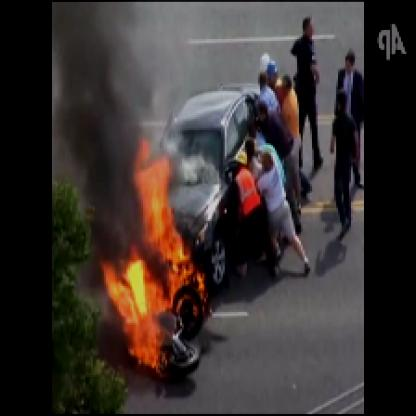Fire: (95, 132, 217, 381)
Smoke: (61, 2, 136, 239)
